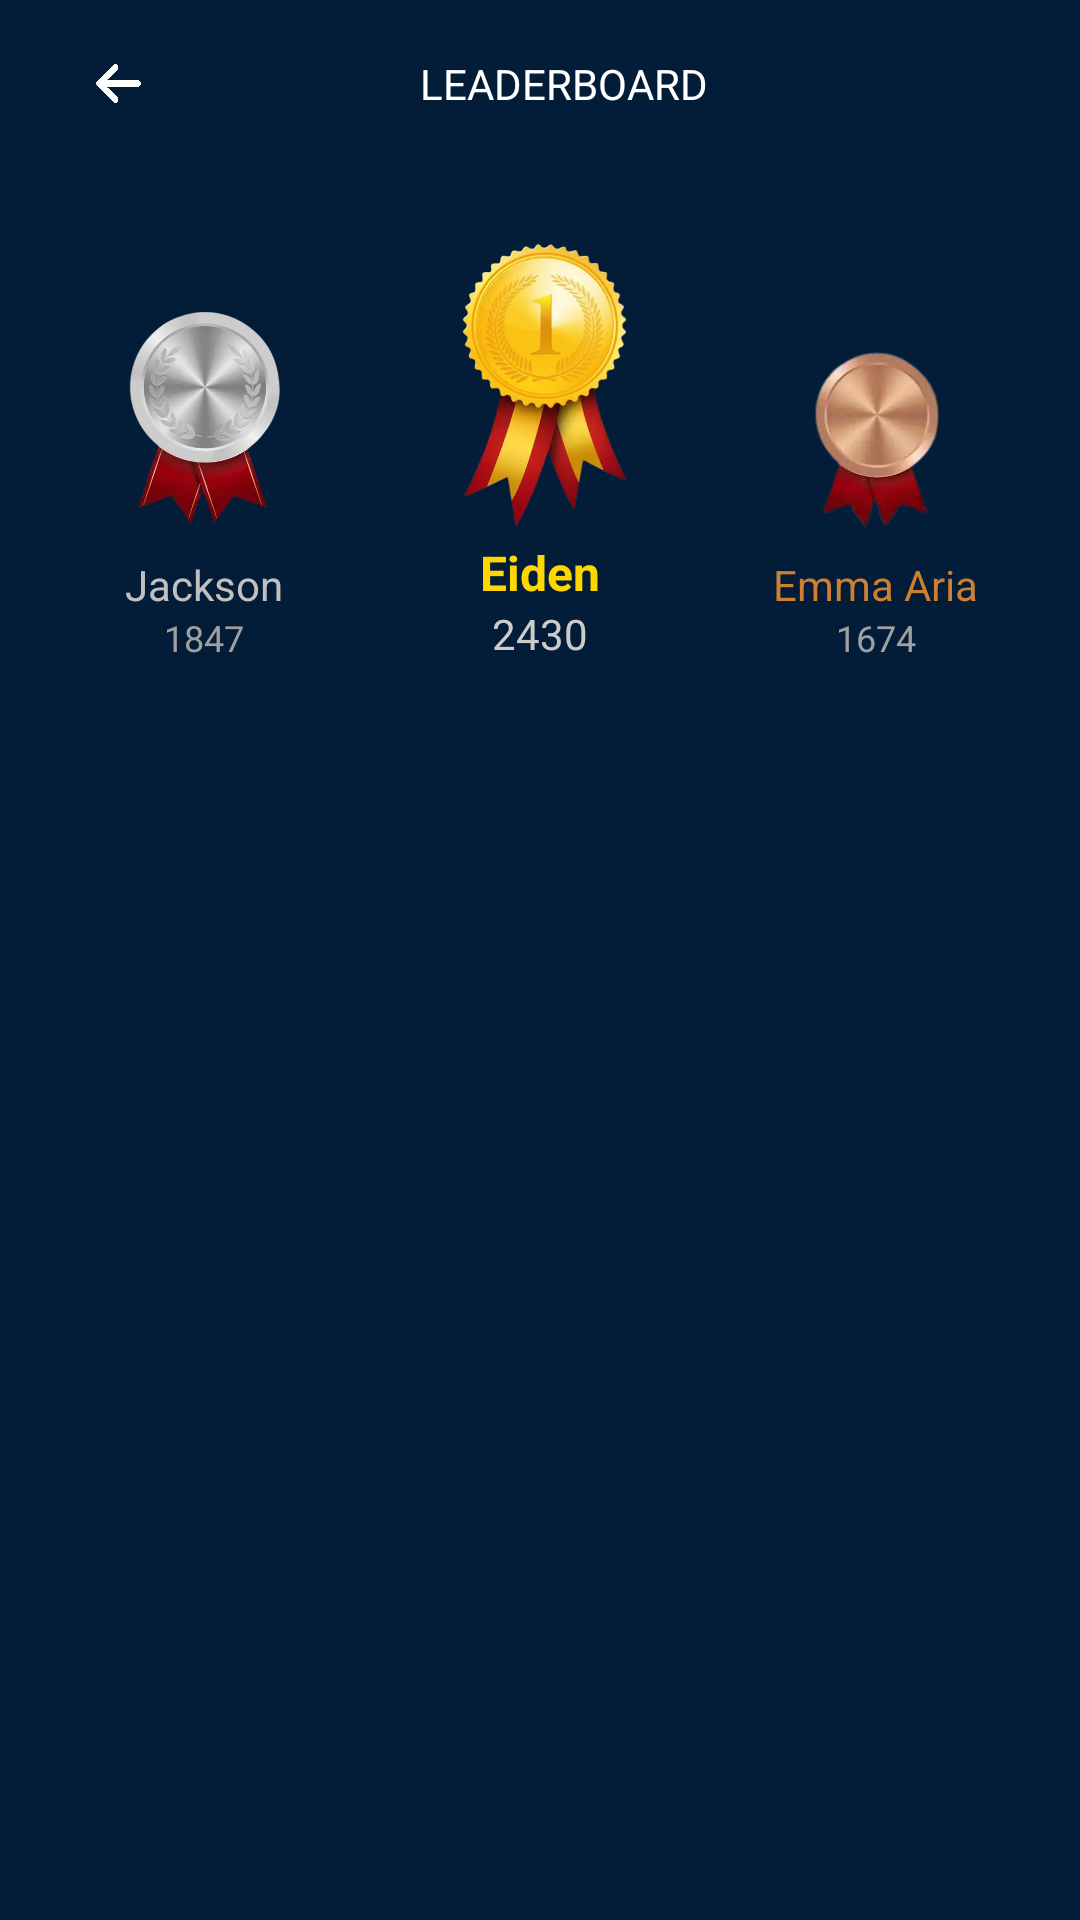

Named icons in this screenshot (1080x1920) and their centers, point (x, y):
Back: point (118, 83)
bronze: point (877, 439)
gold: point (544, 385)
silver: point (205, 417)
